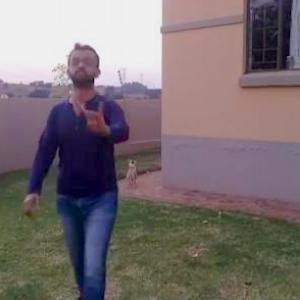takeoff-hand: (78, 98, 111, 138)
